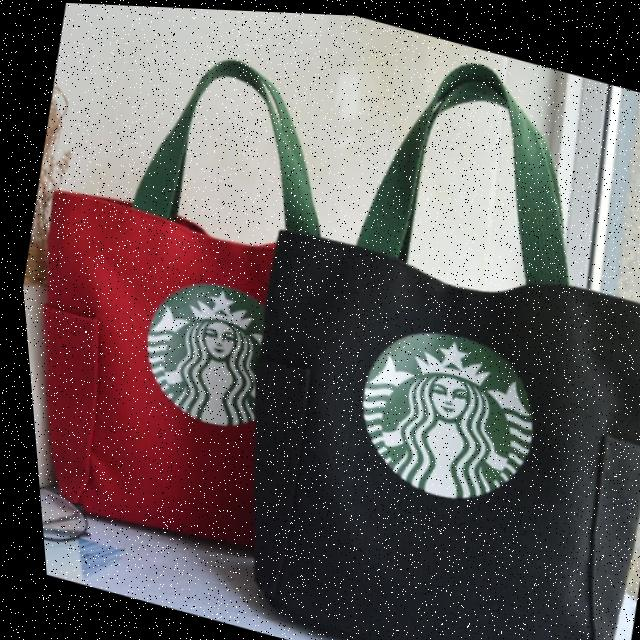ecobag: (161, 6, 640, 640)
